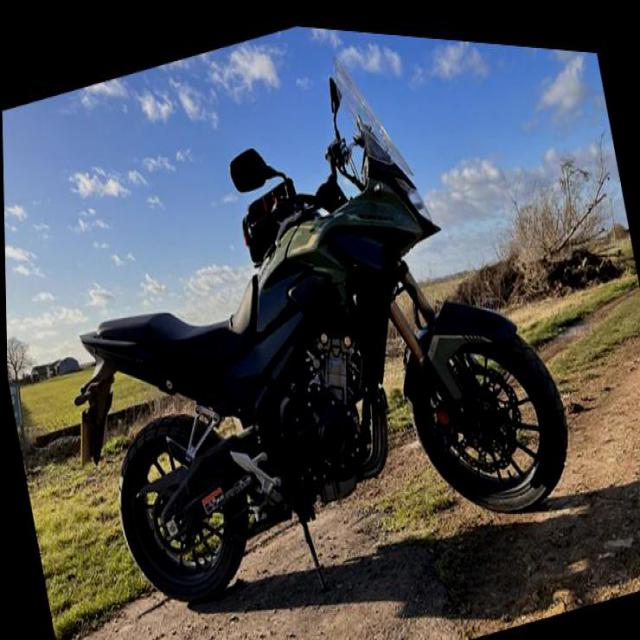CB500X: (42, 2, 582, 638)
